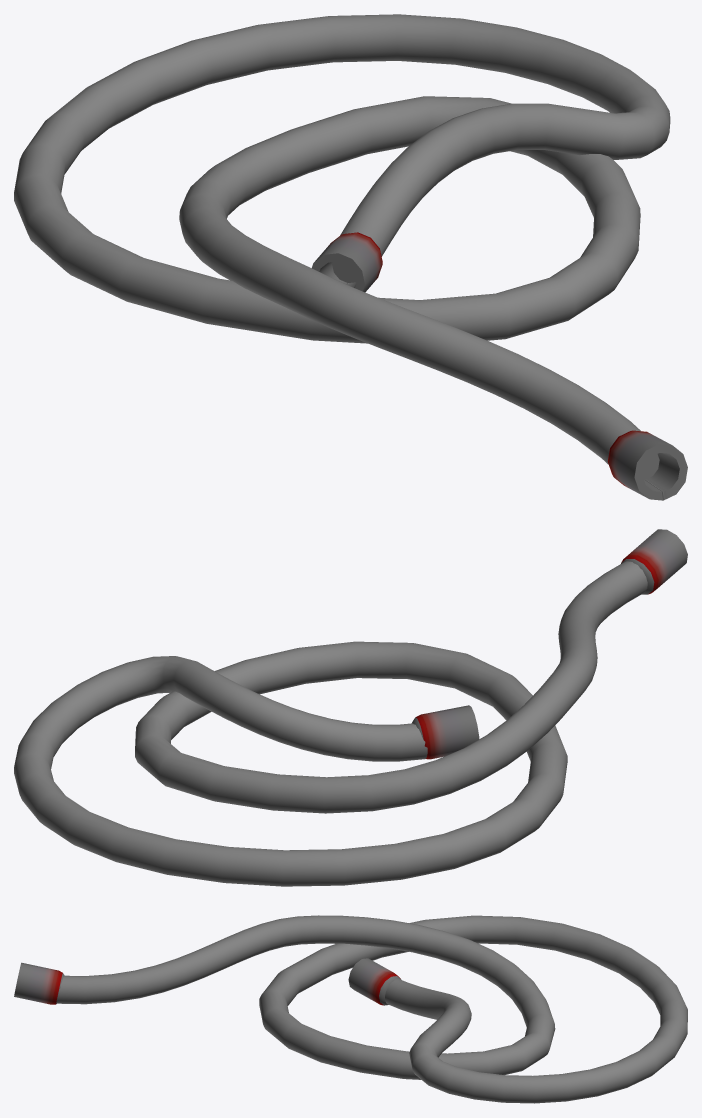
File: Prop_Cable_1.glb
3 views of the same model, one above another, from view 1: azimuth 30°, elevation 25°; view 2: azimuth 150°, elevation 25°; view 3: azimuth 270°, elevation 25° (orthographic). The views are drawn at different scales.
Visible parts, largest first — view 1: Prop_Cable_1; view 2: Prop_Cable_1; view 3: Prop_Cable_1.
Part boxes in pixels (bbox=[...]): Prop_Cable_1: bbox=[14, 14, 687, 500]; Prop_Cable_1: bbox=[14, 529, 687, 886]; Prop_Cable_1: bbox=[14, 915, 687, 1103].
Bounding box in the file's own units: 1.02 × 0.1482 × 1.65.
Materials: 2 (1 with a texture image).
